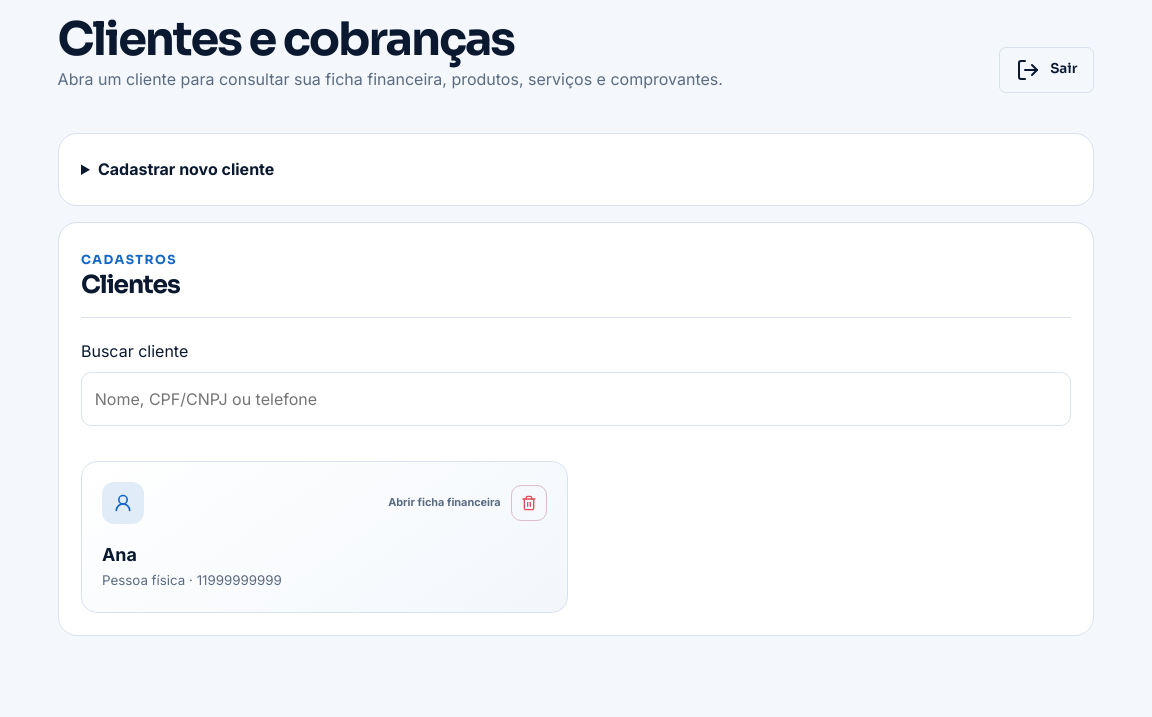
Test case: registra a baixa vinculada e remove o botão após atualizar
(page scrolled)
Click the button with aria-label "Abrir ficha de Ana" at (123, 503), box [81, 461, 568, 613]
(page scrolled)
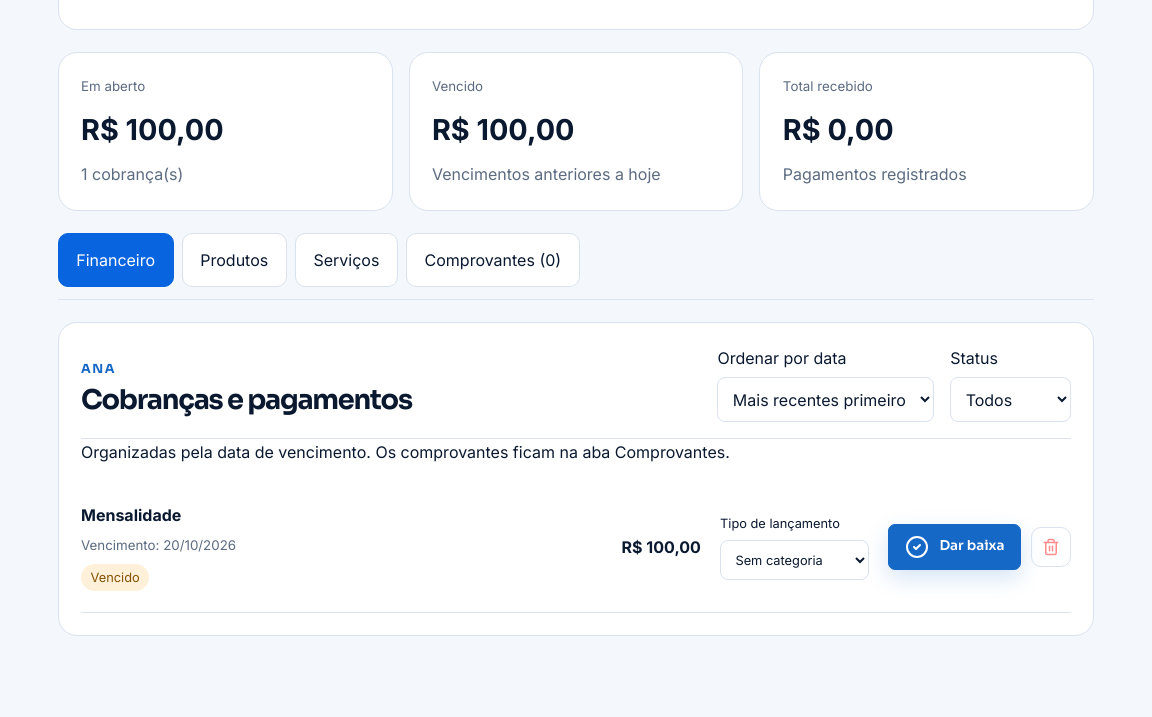
Click the button "Dar baixa" at (955, 547), box [888, 524, 1021, 570]
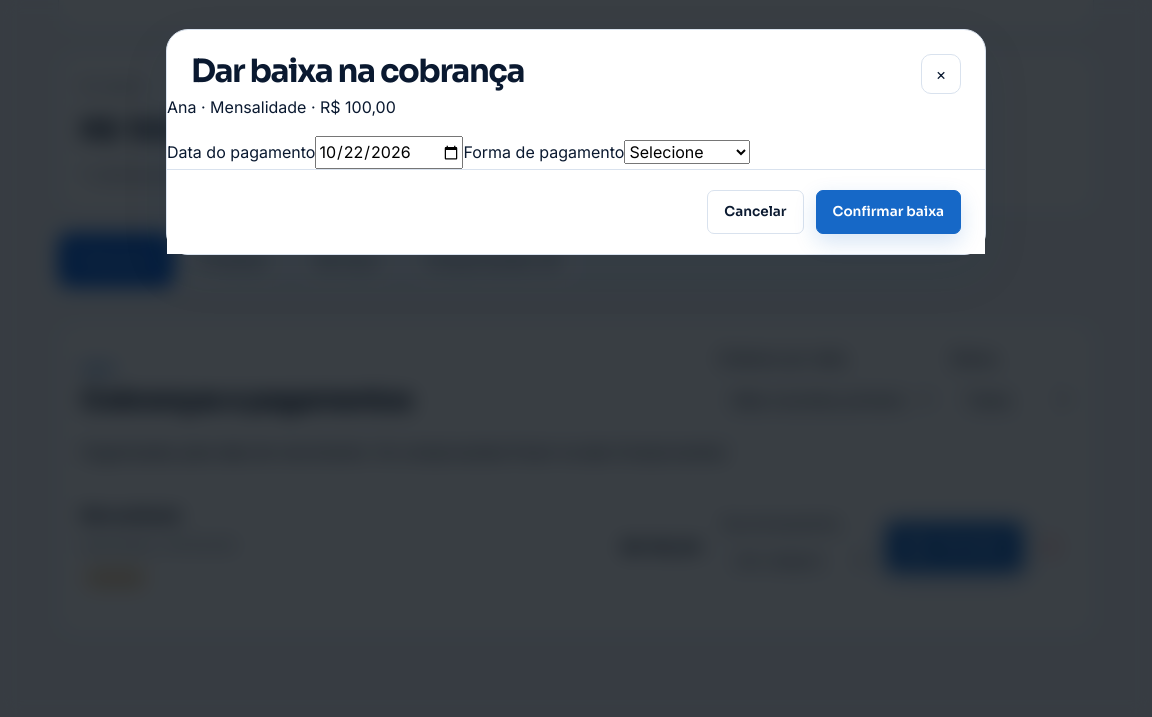
Select "PIX" in the dropdown labelled "Forma de pagamento" at (687, 152), box [624, 140, 750, 164]
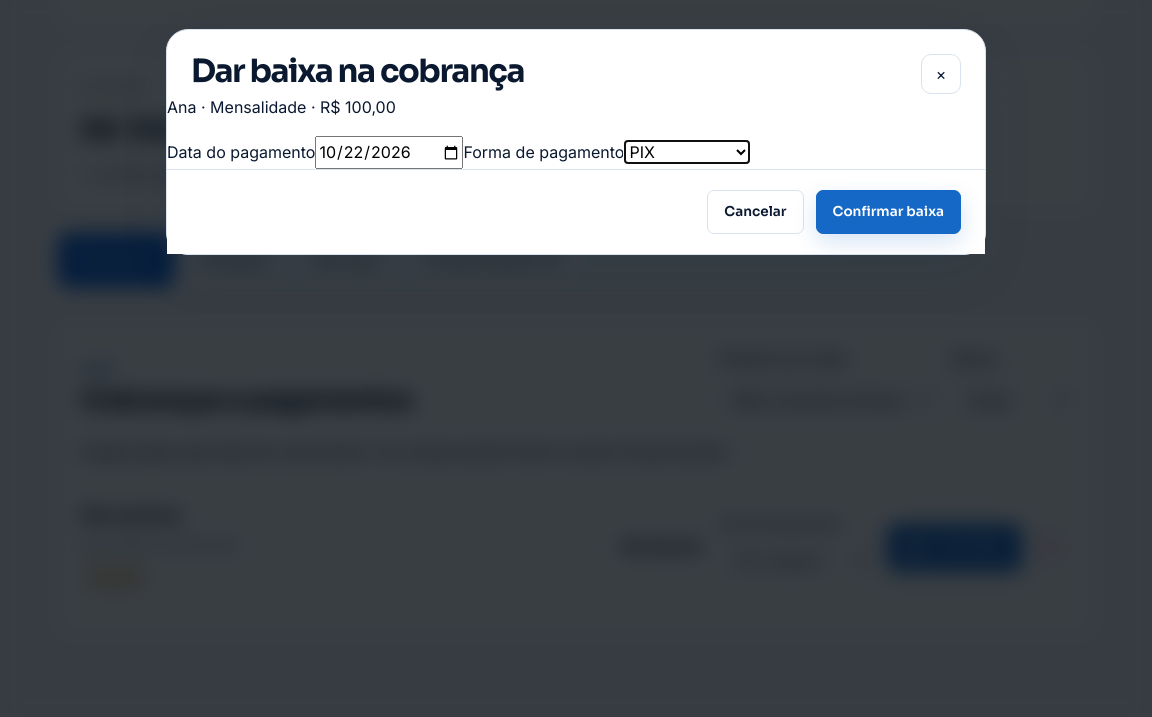
Click the button "Confirmar baixa" at (888, 212), box [816, 190, 961, 234]
(page scrolled)
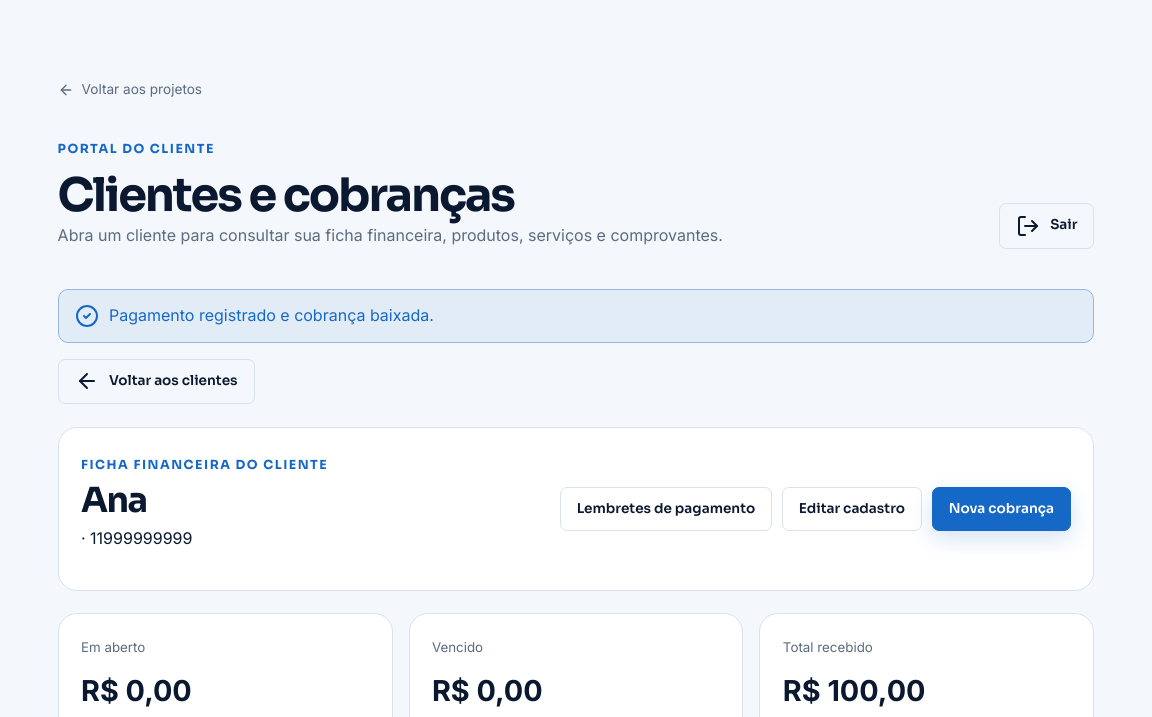
Now the text "Pagamento registrado e cobrança baixada." is shown, box [58, 288, 1094, 342]
Now the button "Dar baixa" is gone
